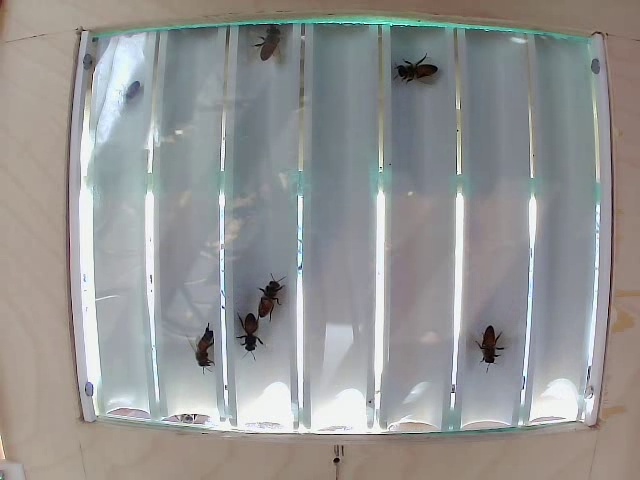bee: (246, 273, 297, 306), (393, 54, 435, 92), (261, 30, 301, 69), (232, 314, 273, 352), (477, 326, 503, 362), (189, 337, 214, 372)
